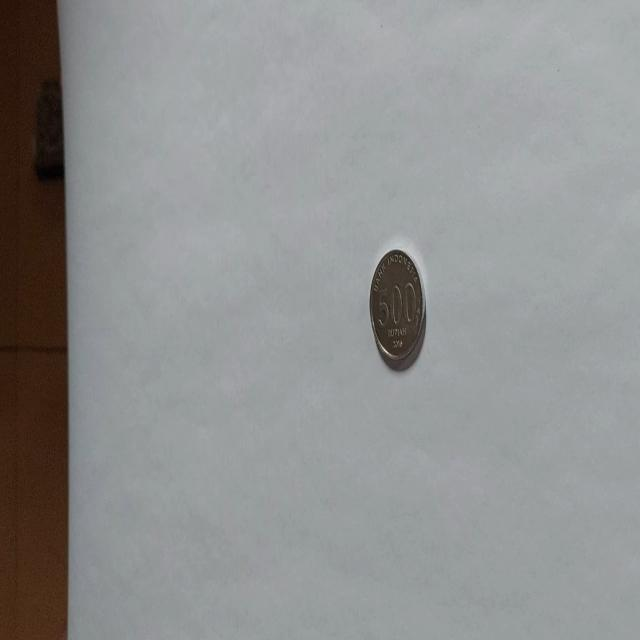lima ratus rupiah: (368, 248, 426, 370)
